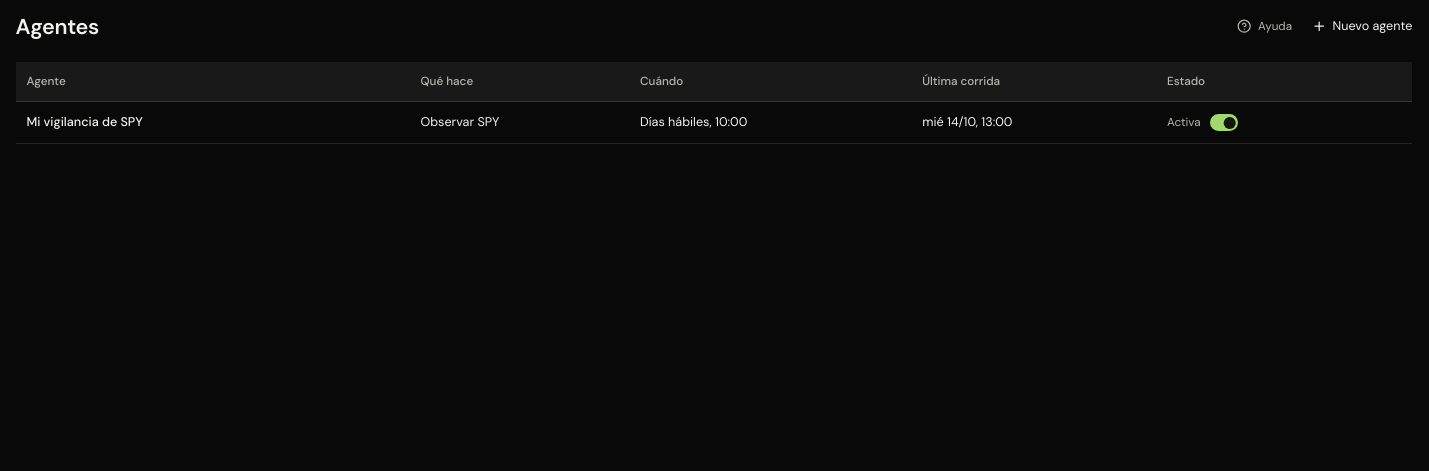
Test case: muestra el método del agente y la última corrida de cada script, o que no hubo
Click the button "Mi vigilancia de SPY" at x=85, y=122, box [26,114,143,130]
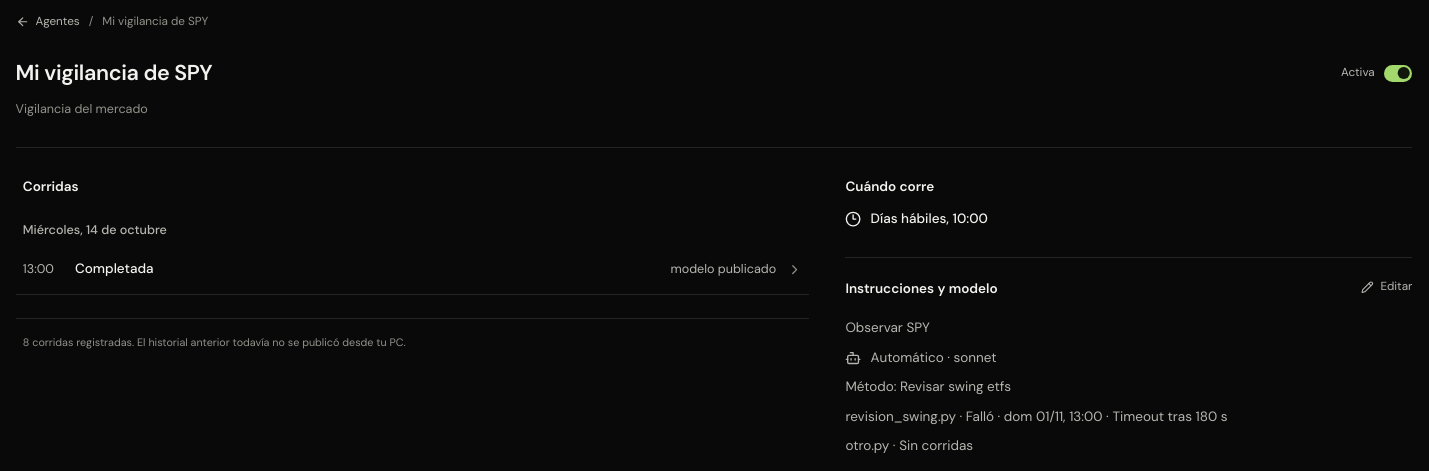
expect the text "Método: Revisar swing etfs" is shown: met, box [845,378,1011,395]
expect the text "revision_swing.py" reads "revision_swing.py · Falló · dom 01/11, 13:00 · Timeout tras 180 s": met, box [966,408,1228,425]
expect the text "otro.py · Sin corridas" is shown: met, box [845,437,973,454]
